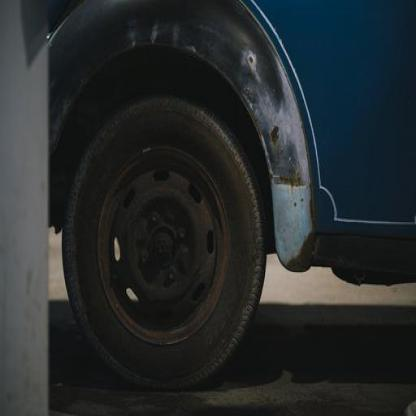Tire: (61, 94, 267, 390)
